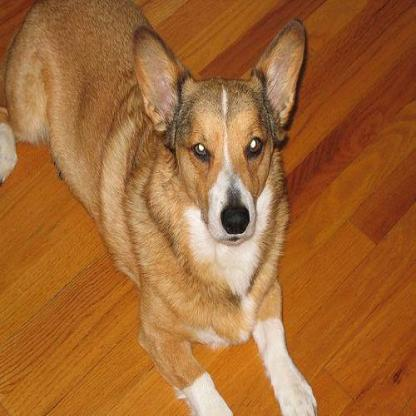Pembroke: (0, 0, 321, 414)
